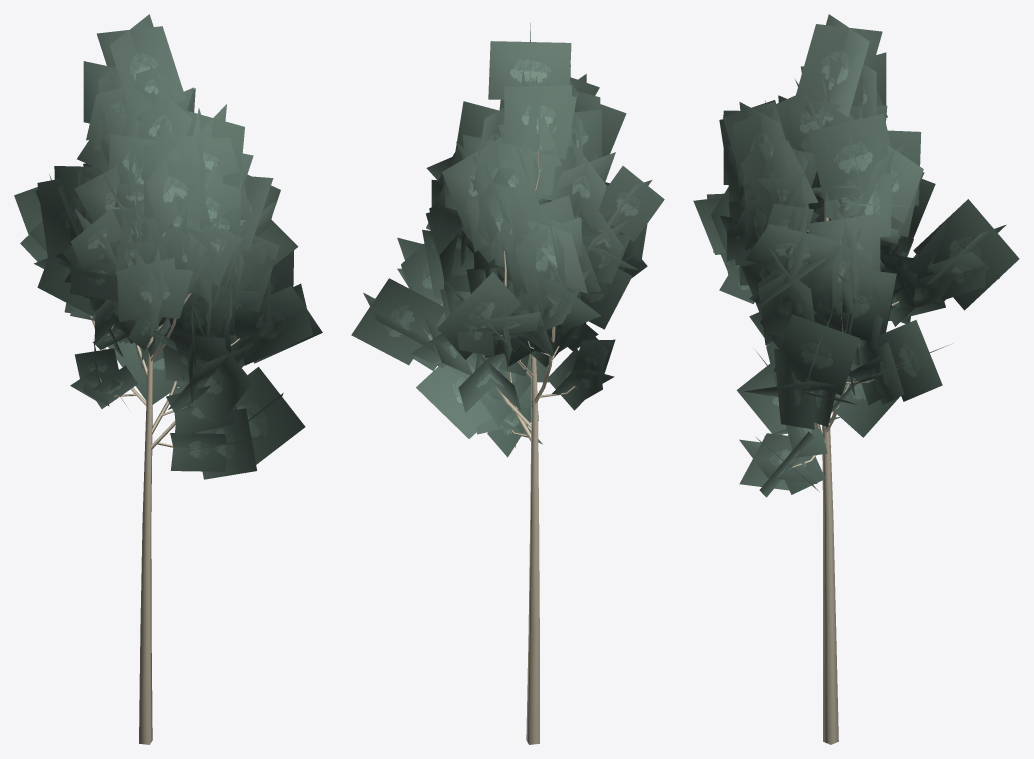
The model's file is eucalipto-bajo.glb.
3 renders of one model, left to right at view 1: azimuth 30°, elevation 25°; view 2: azimuth 150°, elevation 25°; view 3: azimuth 270°, elevation 25°, orthographic.
Parts seen in each view (by area): view 1: eucalipto; view 2: eucalipto; view 3: eucalipto.
Boxes of the visible parts, x1,y1,x2,y2 form: eucalipto: [14, 14, 322, 744]; eucalipto: [351, 23, 664, 744]; eucalipto: [693, 14, 1019, 744].
Size of the model in its own units: 7.69 by 20.68 by 8.47.
2 materials, 1 textured.
